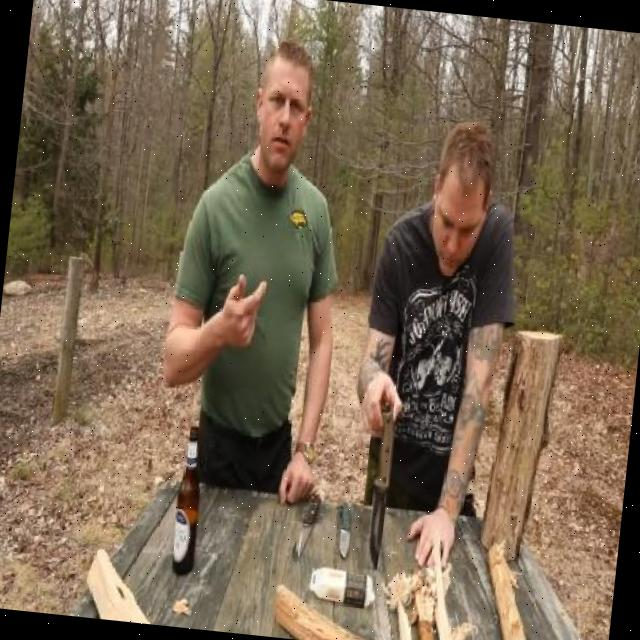Knife: (356, 404, 406, 576), (292, 495, 320, 556), (331, 500, 354, 558)
